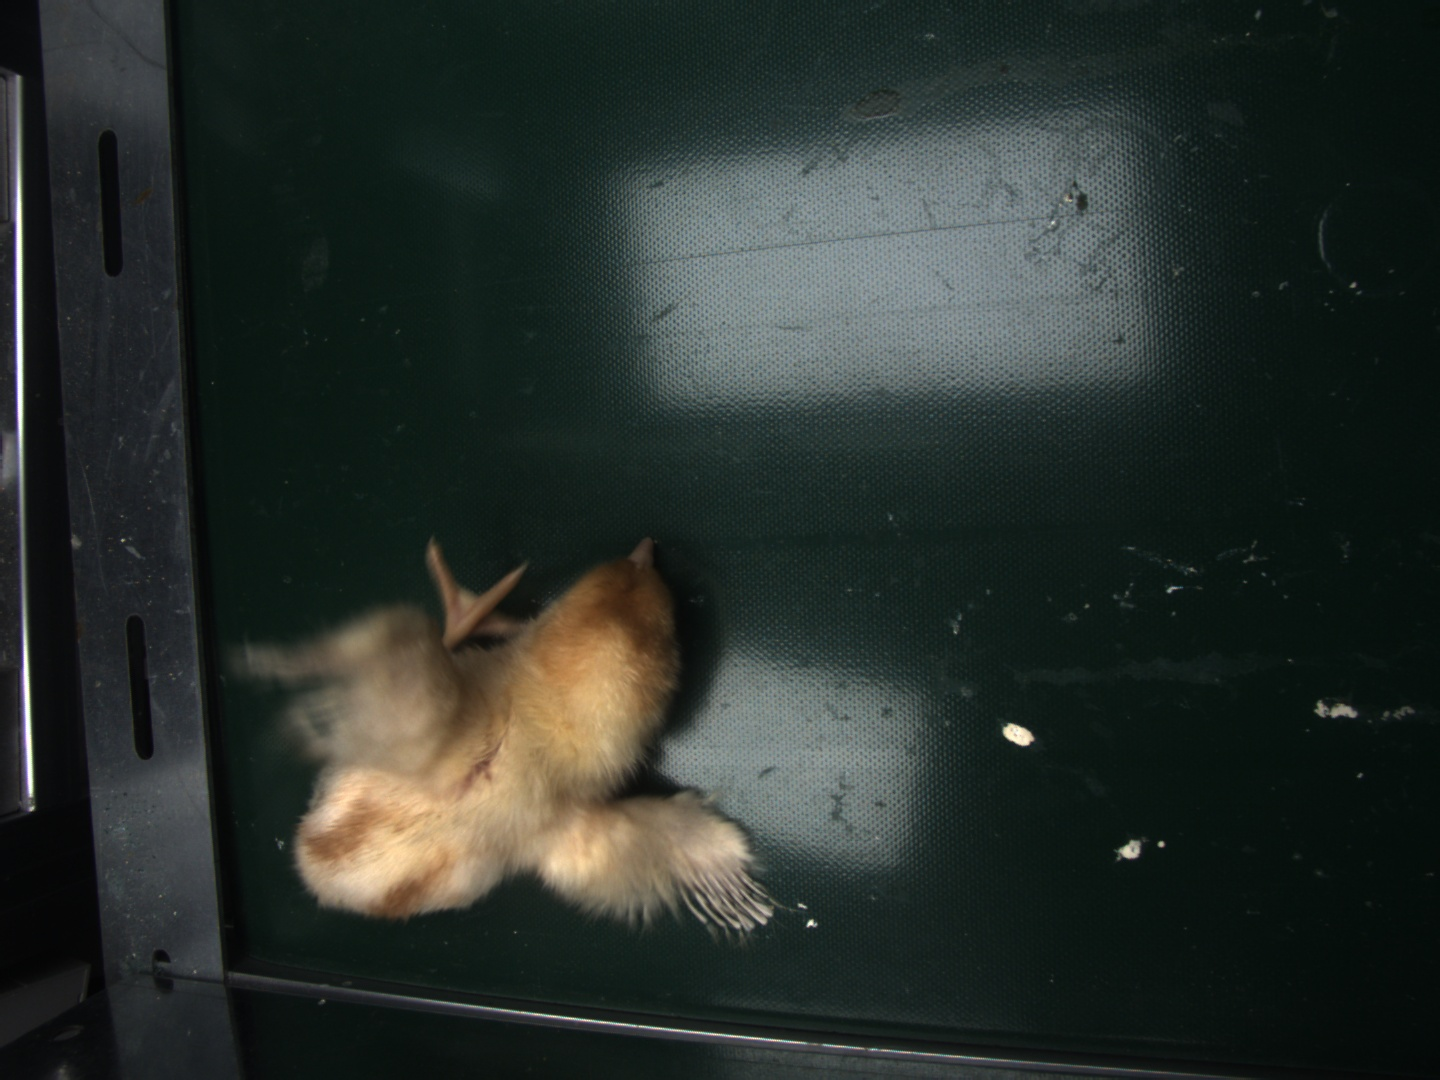female: (686, 863, 766, 923)
